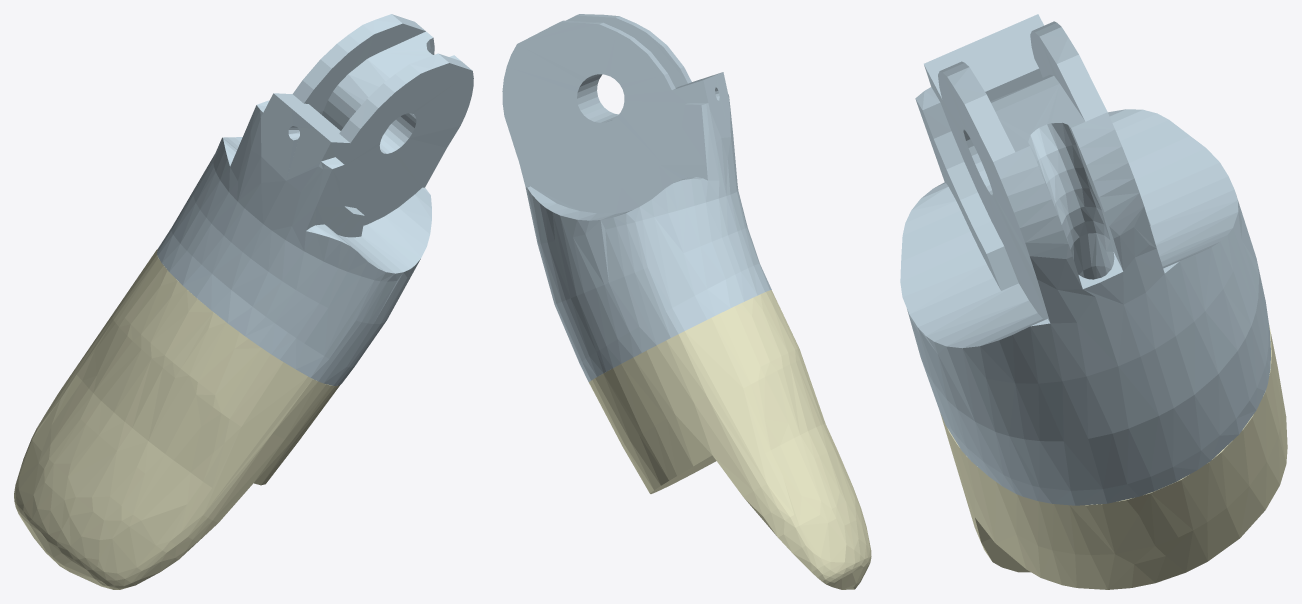
Rendered from i02_rightHand_ThumbTip_visual.obj.light.glb.
3 views of the same model, side by side, from view 1: azimuth 30°, elevation 25°; view 2: azimuth 150°, elevation 25°; view 3: azimuth 270°, elevation 25° (orthographic). The views are drawn at different scales.
Size of the model in its own units: 0.3346 by 0.4094 by 0.1975.
